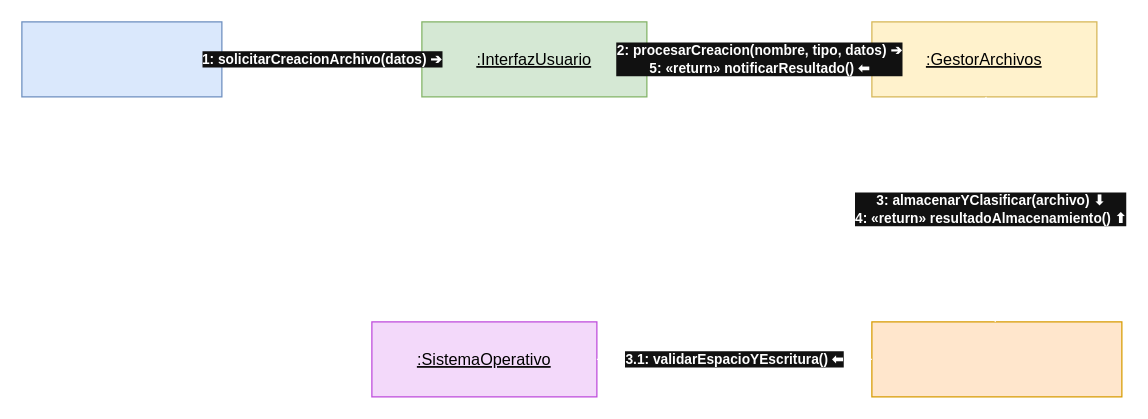
Some shapes in this 1148 by 419 pixel diagram are drawn without their labels. Here are the shapes that lost their labels. From the top down, the centre of each, then its label:
At [121,59]: ":Usuario".
At [996,359]: ":ModuloAlmacenamiento".
